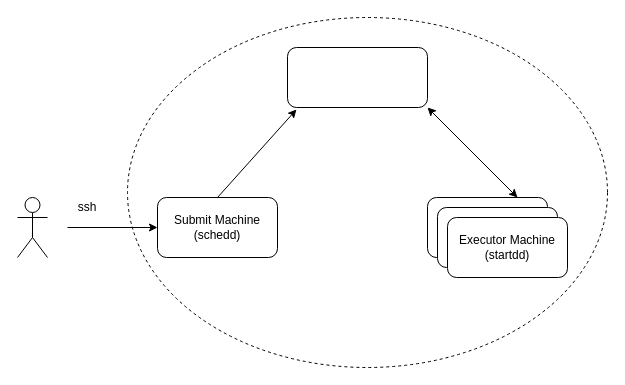
This 625x385 diagram has some shape labels left out. Here are the shapes that lost their labels. From the top down, the centre of each, then its label:
At pixel 357 77: "Centra Manager (collector + negotiator)".
At pixel 32 227: "Actor".
